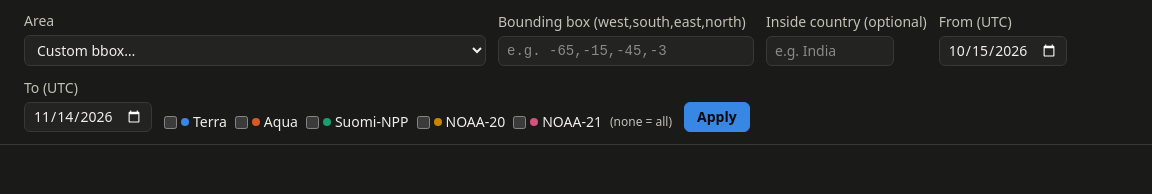
AreaBar › rejects future end dates and notes antimeridian crossing
Type "176,-21,-178,-15" into the field labelled "Bounding box".
click(626, 51); type("176,-21,-178,-15")  # box top-left (498, 36), bottom-right (754, 66)
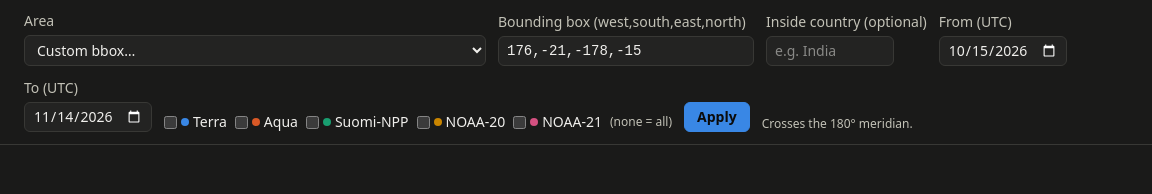
Expected: the text "Crosses the 180° meridian." is shown, top-left (762, 116), bottom-right (913, 132)
Type "2026-12-01" into the date field named "End date".
click(88, 117); type("2026-12-01")  # box top-left (24, 102), bottom-right (152, 132)
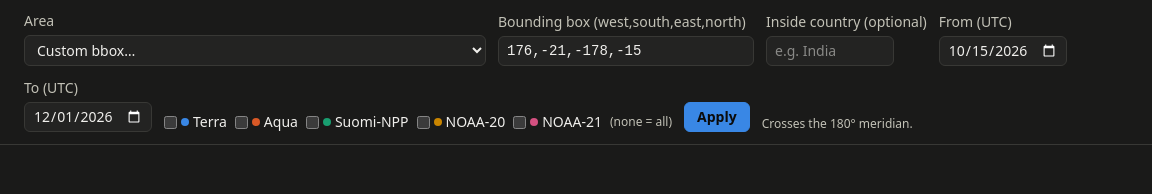
Click the button "Apply".
click(717, 117)  # box top-left (684, 102), bottom-right (750, 132)
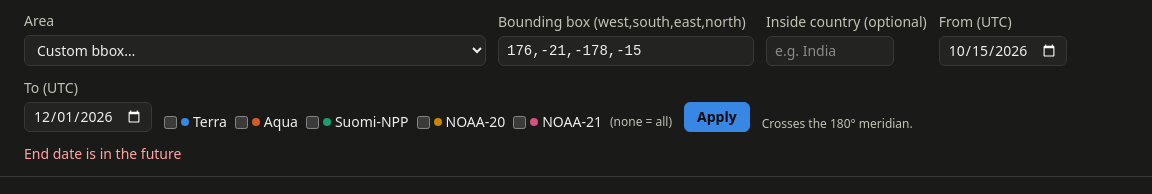
Expected: the message shows "future", top-left (24, 144), bottom-right (181, 163)
